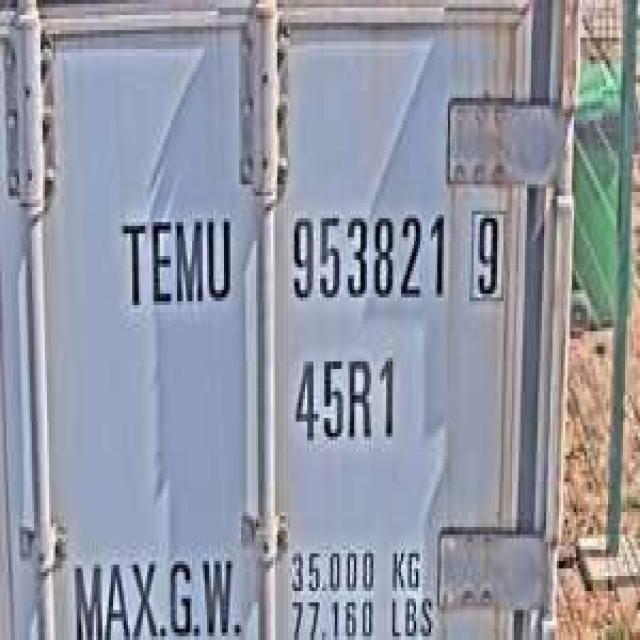dv: (463, 195, 508, 308)
owner: (113, 196, 237, 316)
serial: (284, 195, 452, 308)
size: (288, 339, 403, 452)
